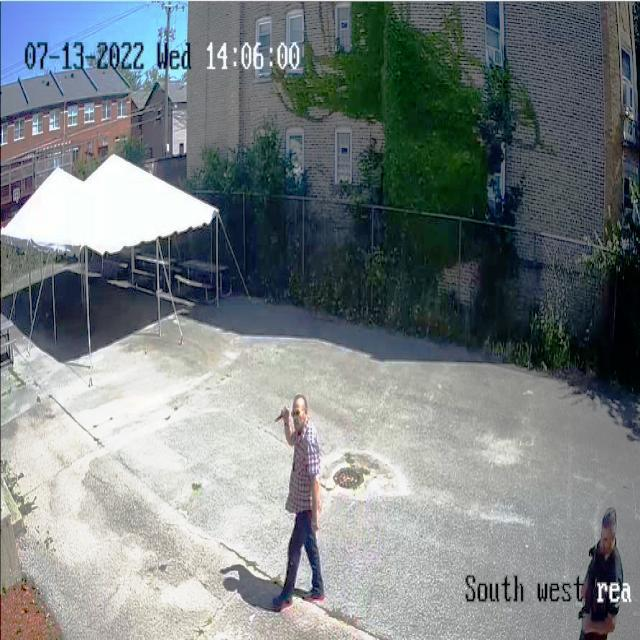Knife: (269, 400, 292, 434)
